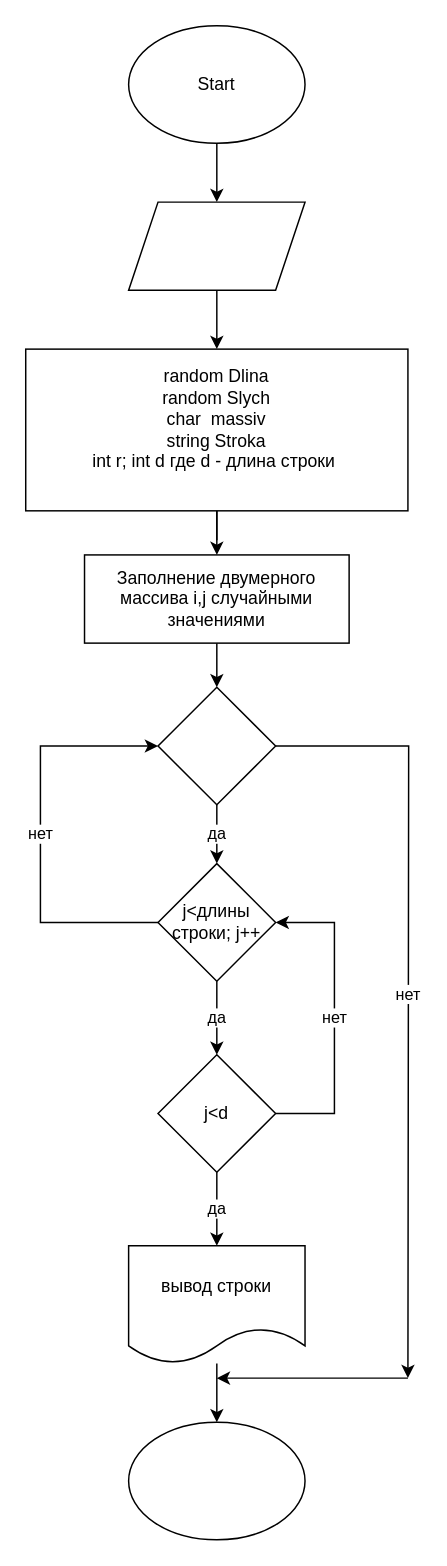
This 447x1566 diagram has some shape labels left out. The shapes that lost their labels are listed below. From the top down, each one's box as (x1, y1, x2, y2) in pixels, then its label:
(127, 201, 305, 290): i,j
(157, 686, 276, 805): i< кол-во строк; i++
(127, 1421, 305, 1540): Стоп
